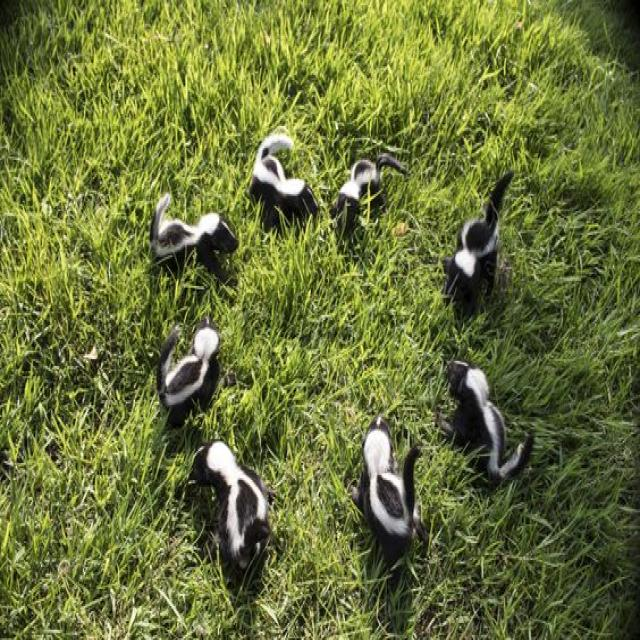Skunk: (346, 400, 436, 581)
